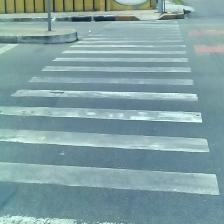crosswalk: (78, 30, 186, 224)
